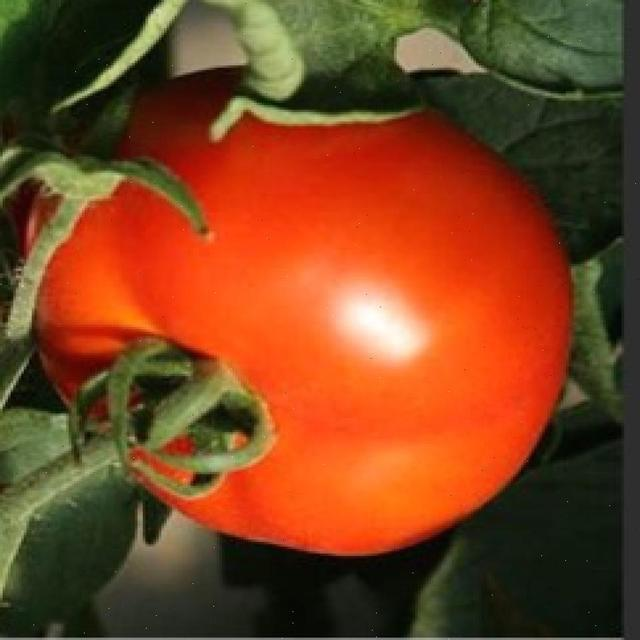Healthy Fruit: (23, 73, 370, 376)
